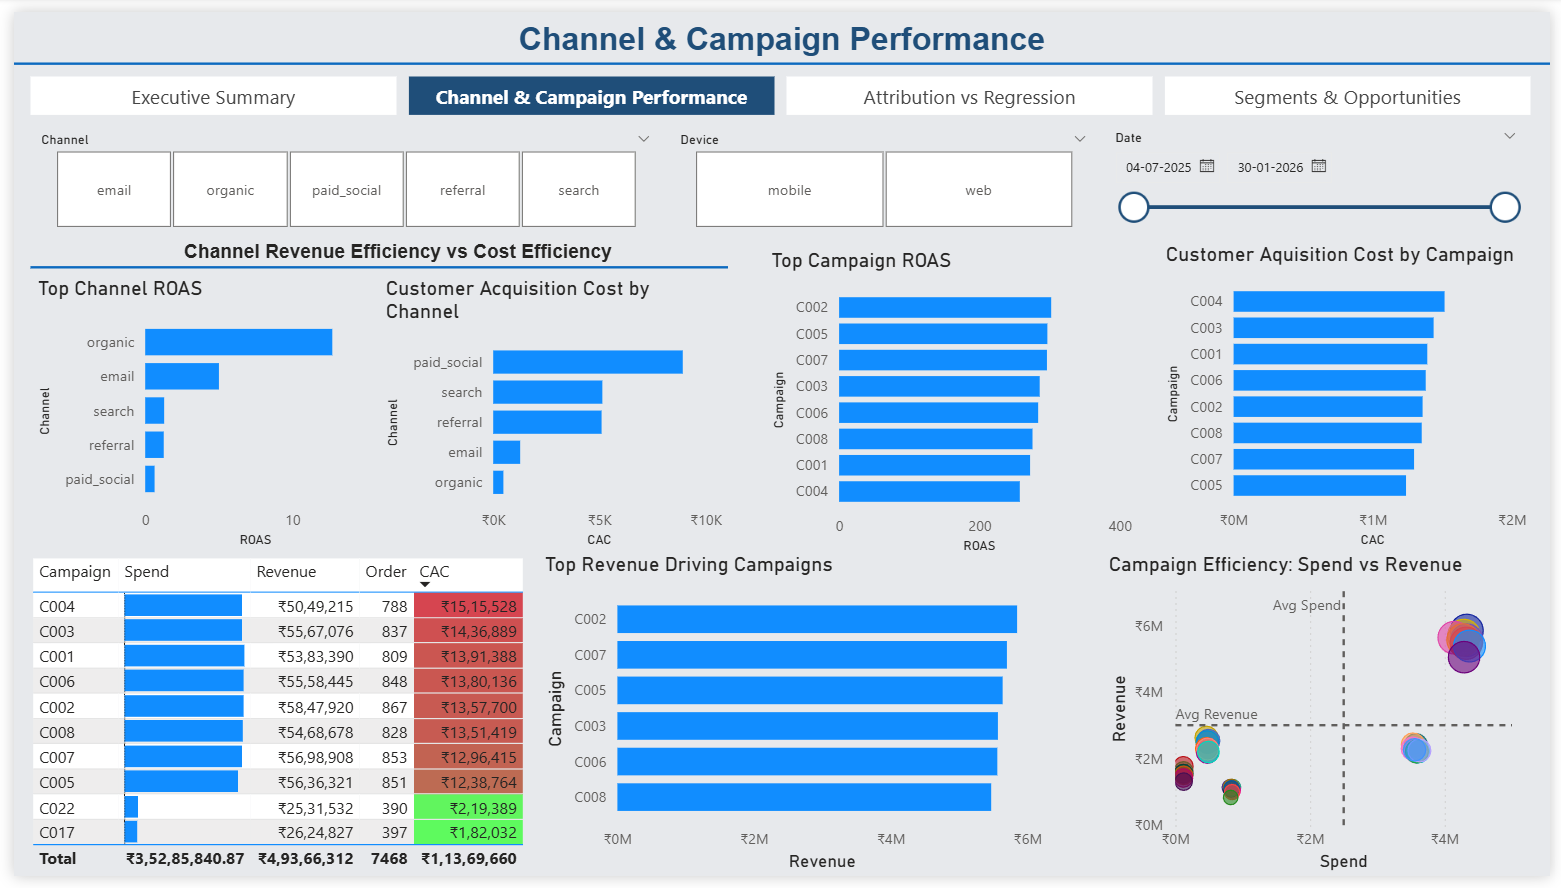

Layout of this report page (visuals, bound fields, positions):
{"tool":"powerbi","page":{"name":"Channel & Campaign Performance","canvas":[1280,720],"ordinal":1},"visuals":[{"type":"clusteredBarChart","title":"Top Channel ROAS","fields":{"Category":["dim_channel.channel"],"Y":["fact_channel_daily.ROAS"]},"box":[15,219.7,290,230],"z":0},{"type":"clusteredBarChart","title":"Customer Acquisition Cost by Channel","fields":{"Category":["dim_channel.channel"],"Y":["fact_channel_daily.CAC_Channel"]},"box":[305,219.7,290,230],"z":1000},{"type":"tableEx","fields":{"Values":["dim_campaign.campaign_id","Sum(fact_campaign_daily.spend)","Sum(fact_campaign_daily.attributed_revenue)","Sum(fact_campaign_daily.attributed_orders)","Sum(fact_campaign_daily.CAC_proxy)"]},"box":[10,450,420,270],"z":2000},{"type":"clusteredBarChart","title":"Top Revenue Driving Campaigns","fields":{"Category":["dim_campaign.campaign_id"],"Y":["Sum(fact_campaign_daily.attributed_revenue)"]},"box":[437.5,450,423.8,270],"z":3000},{"type":"scatterChart","title":"Campaign Efficiency: Spend vs Revenue","fields":{"X":["Sum(fact_campaign_daily.spend)"],"Y":["Sum(fact_campaign_daily.attributed_revenue)"],"Size":["Sum(fact_campaign_daily.attributed_orders)"],"Series":["dim_campaign.campaign_id"]},"box":[907.5,450,357.5,270],"z":4000},{"type":"clusteredBarChart","title":"Top Campaign ROAS","fields":{"Category":["dim_campaign.campaign_id"],"Y":["Sum(fact_campaign_daily.ROAS)"]},"box":[626.2,196.2,310,258.8],"z":5000},{"type":"clusteredBarChart","title":"Customer Aquisition Cost by Campaign","fields":{"Category":["dim_campaign.campaign_id"],"Y":["Sum(fact_campaign_daily.CAC_proxy)"]},"box":[955,191.2,310,258.8],"z":6000},{"type":"textbox","box":[0,184.8,640,34.4],"z":7000},{"type":"shape","box":[13.8,196.2,581.2,45],"z":8000},{"type":"slicer","title":"Channel","fields":{"Values":["dim_channel.channel"]},"box":[10,94.4,532.2,91.1],"z":9000},{"type":"slicer","fields":{"Values":["fact_sessions.device"]},"box":[542.2,94.4,363.3,91.1],"z":10000},{"type":"slicer","title":"Date","fields":{"Values":["fact_channel_daily.date"]},"box":[905.6,94.4,358.9,91.1],"z":11000},{"type":"textbox","box":[0,0,1280,44.4],"z":12000},{"type":"shape","box":[0,22.2,1280,41.1],"z":13000},{"type":"pageNavigator","box":[13.3,53.3,1251.1,32.2],"z":14000}]}

Visuals, with their boxes in screenshot pixels (x1, y1, x2, y2), scaled from the page's 1280x720 canvas onto the 1561x888 screenshot:
"Top Channel ROAS" clusteredBarChart: x1=18 y1=271 x2=372 y2=555
"Customer Acquisition Cost by Channel" clusteredBarChart: x1=372 y1=271 x2=726 y2=555
tableEx - dim_campaign.campaign_id x Sum(fact_campaign_daily.spend): x1=12 y1=555 x2=524 y2=887
"Top Revenue Driving Campaigns" clusteredBarChart: x1=534 y1=555 x2=1050 y2=887
"Campaign Efficiency: Spend vs Revenue" scatterChart: x1=1107 y1=555 x2=1543 y2=887
"Top Campaign ROAS" clusteredBarChart: x1=764 y1=242 x2=1142 y2=561
"Customer Aquisition Cost by Campaign" clusteredBarChart: x1=1165 y1=236 x2=1543 y2=555
textbox: x1=0 y1=228 x2=780 y2=270
shape: x1=17 y1=242 x2=726 y2=297
"Channel" slicer: x1=12 y1=116 x2=661 y2=229
slicer - fact_sessions.device: x1=661 y1=116 x2=1104 y2=229
"Date" slicer: x1=1104 y1=116 x2=1542 y2=229
textbox: x1=0 y1=0 x2=1560 y2=55
shape: x1=0 y1=27 x2=1560 y2=78
pageNavigator: x1=16 y1=66 x2=1542 y2=105
